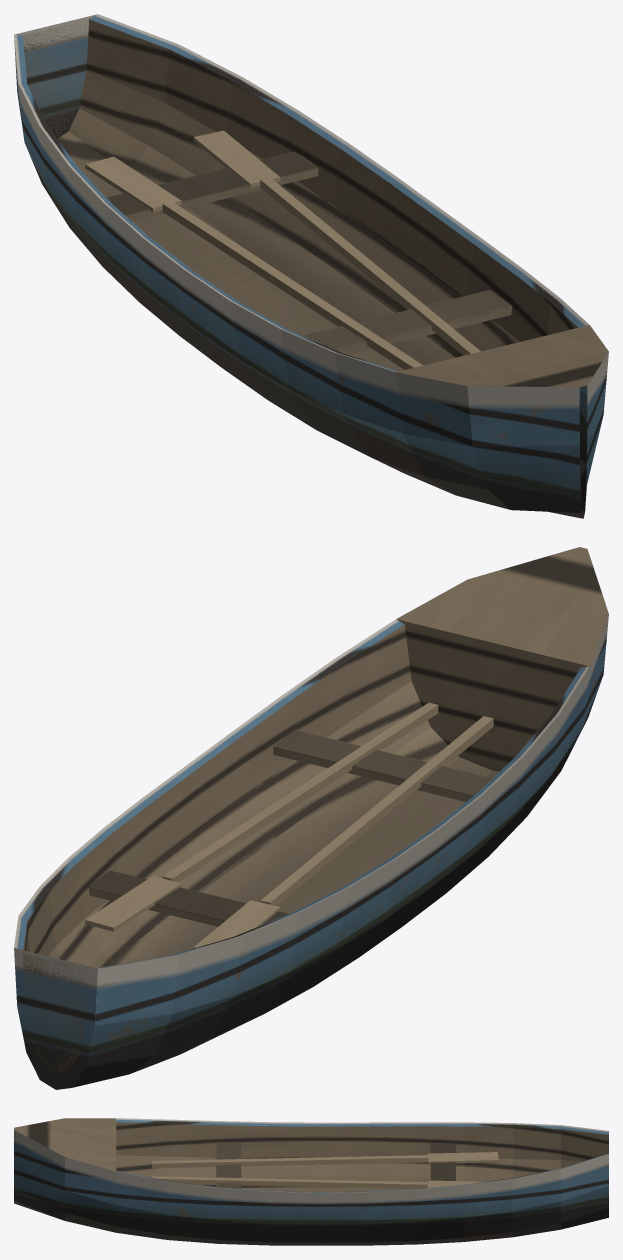
The picture shows the model from 3 angles, top to bottom: view 1: azimuth 30°, elevation 25°; view 2: azimuth 150°, elevation 25°; view 3: azimuth 270°, elevation 25°; orthographic projection. The views are drawn at different scales.
Parts seen in each view (by area): view 1: 부두_목선_01; view 2: 부두_목선_01; view 3: 부두_목선_01.
Boxes of the visible parts, x1=… form: 부두_목선_01: x1=14, y1=14, x2=608, y2=518; 부두_목선_01: x1=14, y1=547, x2=608, y2=1089; 부두_목선_01: x1=14, y1=1118, x2=608, y2=1245.
Bounding box in the file's own units: 260 × 185 × 931.
Materials: 3 (3 with a texture image).
